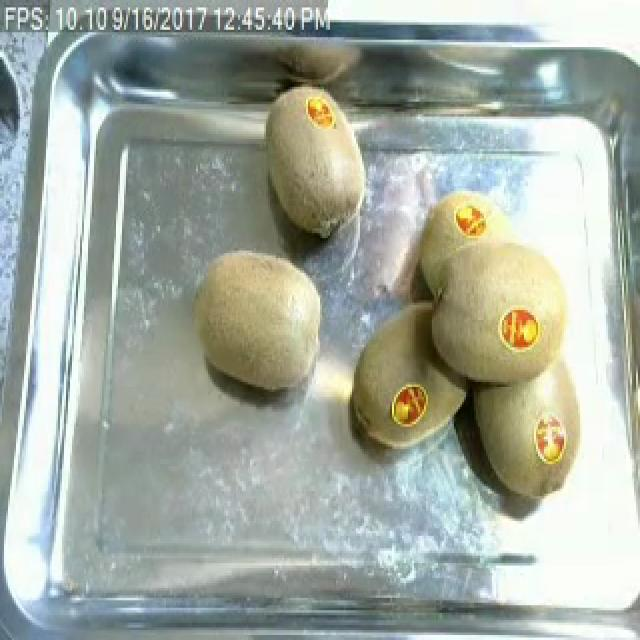Fruit: (410, 179, 584, 397), (186, 243, 330, 399), (258, 80, 376, 246)
